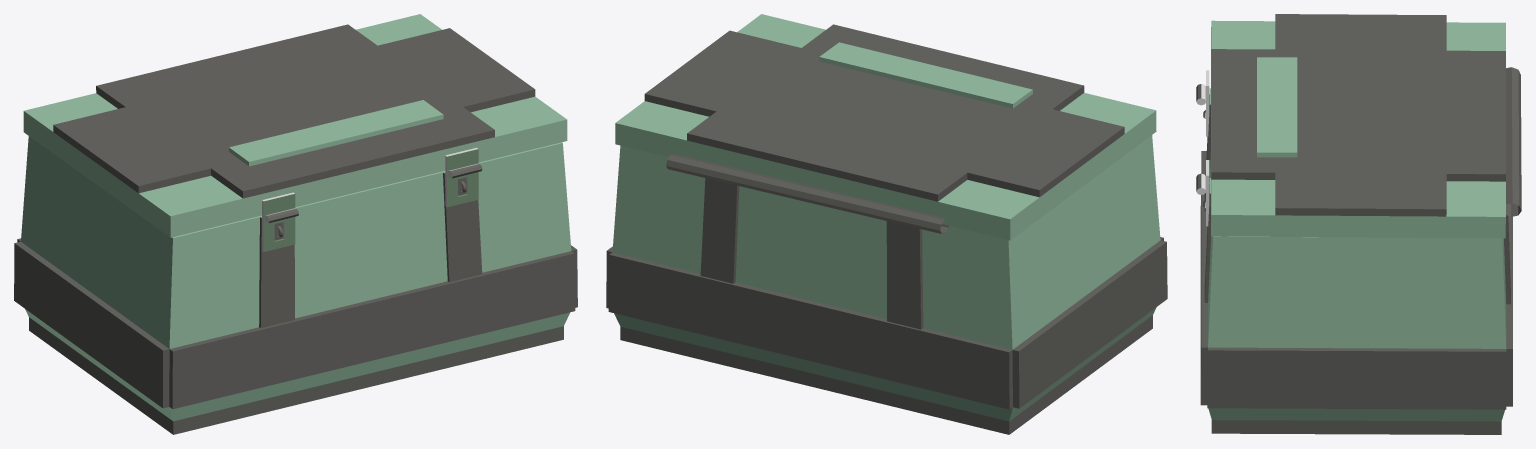
File: норм контейнер.fbx
The picture shows the model from 3 angles, left to right: view 1: azimuth 30°, elevation 25°; view 2: azimuth 150°, elevation 25°; view 3: azimuth 270°, elevation 25°; orthographic projection.
Parts seen in each view (by area): view 1: Цилиндр.008, Cube.001; view 2: Цилиндр.008, Cube.001; view 3: Cube.001, Цилиндр.008.
Boxes of the visible parts, x1,y1,x2,y2 form: Цилиндр.008: (14,136,577,434); Cube.001: (23,14,567,237); Цилиндр.008: (606,135,1167,434); Cube.001: (615,14,1156,240); Cube.001: (1211,14,1505,238); Цилиндр.008: (1196,67,1521,434).
Size of the model in its own units: 326 by 176 by 221.
